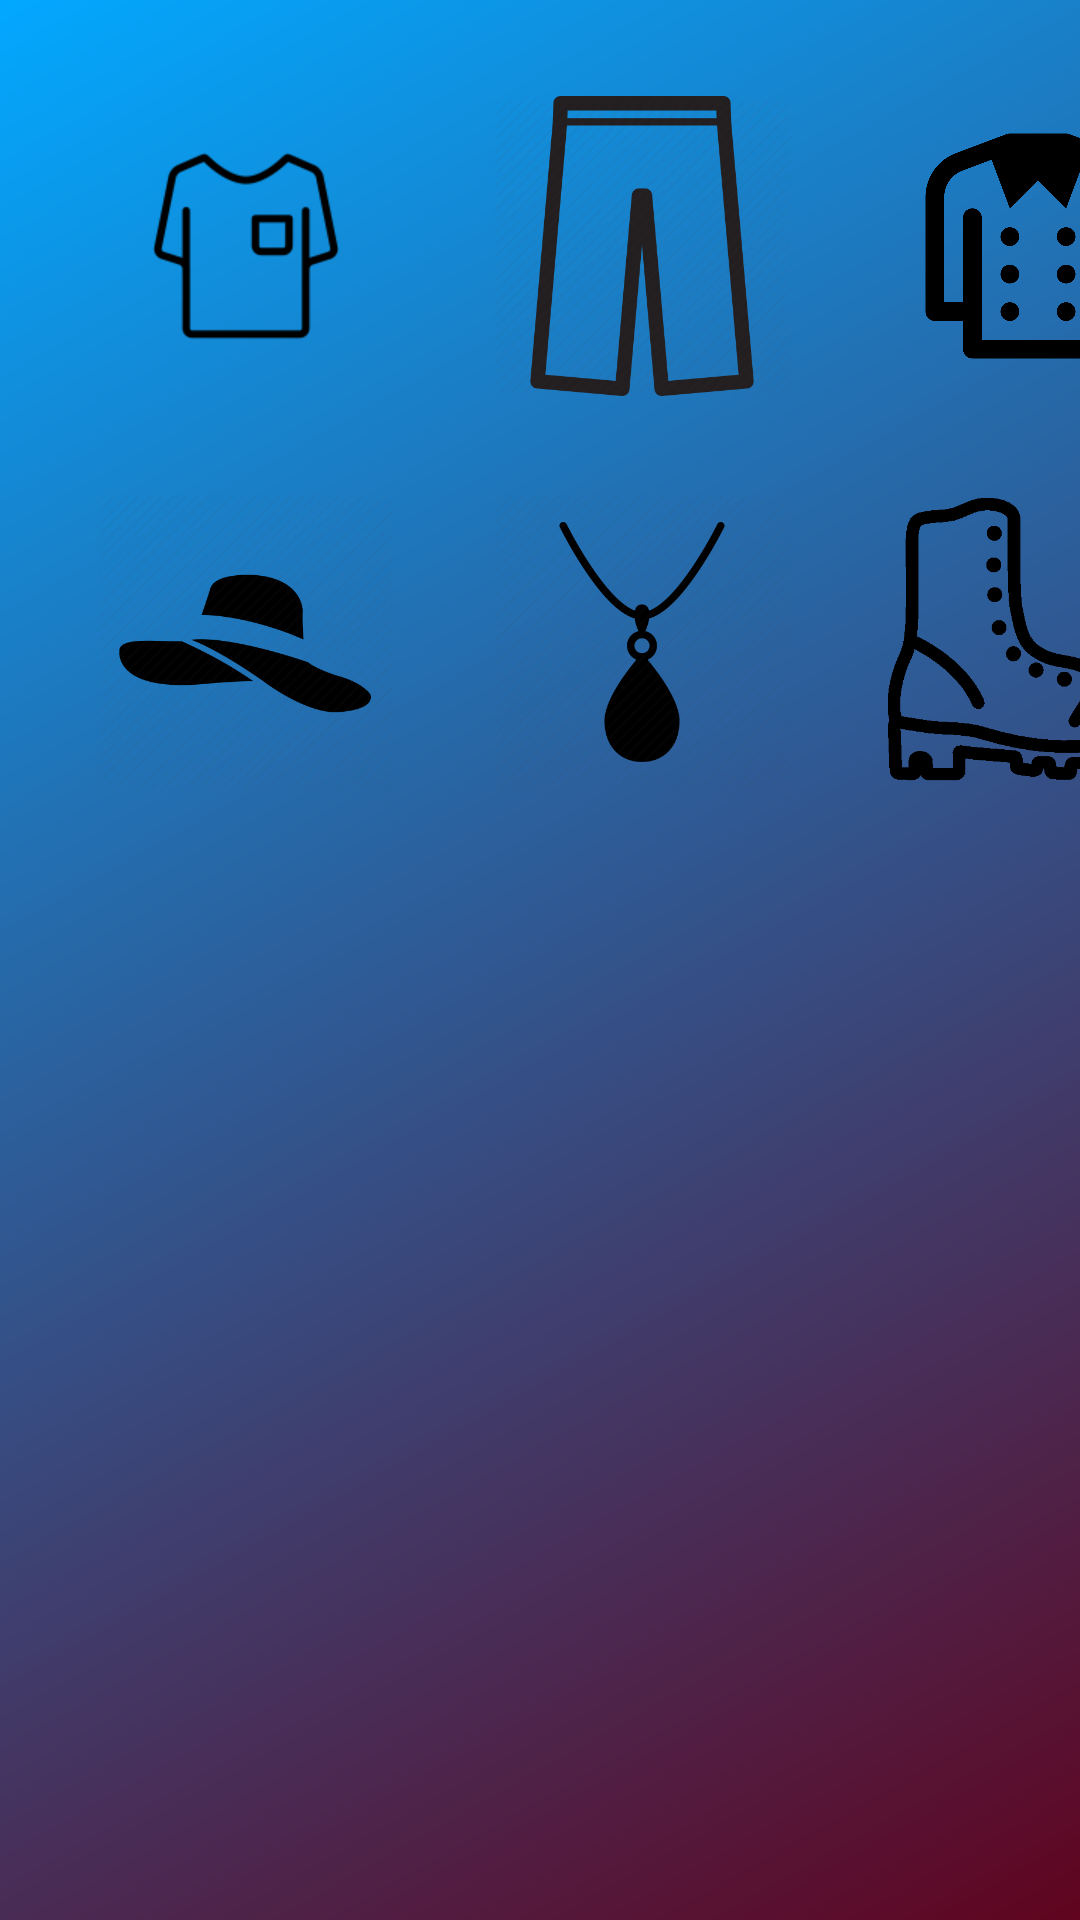

Named icons in this screenshot (1080 × 1920) and their centers, (x=x, y=y):
accessories: (x=674, y=657)
hat: (x=246, y=642)
pants: (x=642, y=246)
shirt: (x=246, y=246)
